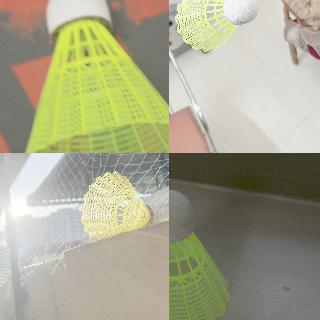shuttlecock: (23, 0, 168, 152), (169, 191, 231, 319), (80, 172, 160, 238), (174, 0, 258, 52)
